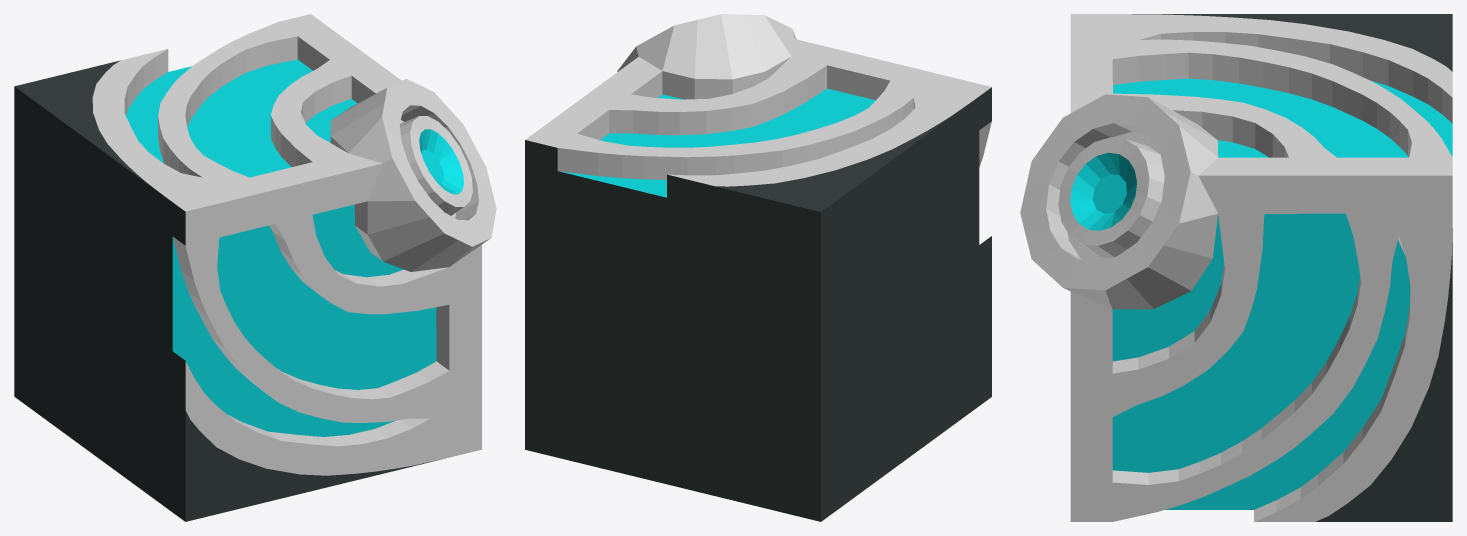
Rendered from Black.fbx.
The picture shows the model from 3 angles, left to right: view 1: azimuth 30°, elevation 25°; view 2: azimuth 150°, elevation 25°; view 3: azimuth 270°, elevation 25°; orthographic projection. The views are drawn at different scales.
Visible parts, largest first — view 1: 立方体.003; view 2: 立方体.003; view 3: 立方体.003.
Part boxes in pixels (bbox=[...]): 立方体.003: bbox=[14, 14, 496, 521]; 立方体.003: bbox=[525, 14, 991, 521]; 立方体.003: bbox=[1020, 14, 1452, 521].
Size of the model in its own units: 7.56 by 7.56 by 7.56.
